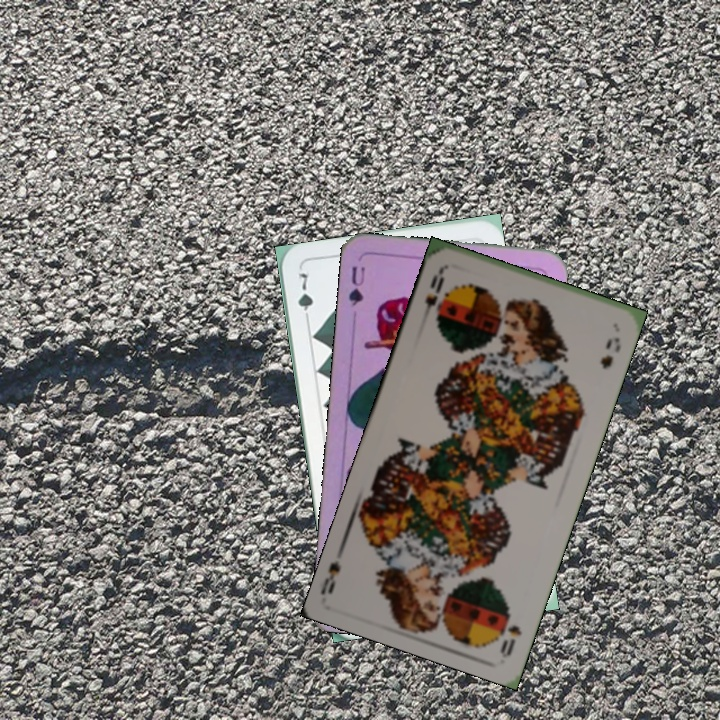G7: (294, 267, 316, 326)
GU: (344, 262, 368, 308)
SO: (418, 266, 447, 324), (496, 621, 524, 659)
